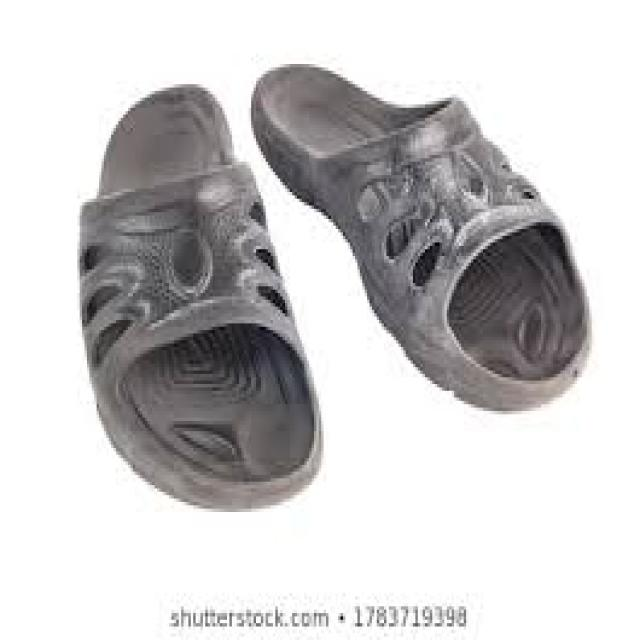other: (254, 64, 592, 409), (80, 88, 321, 509)
